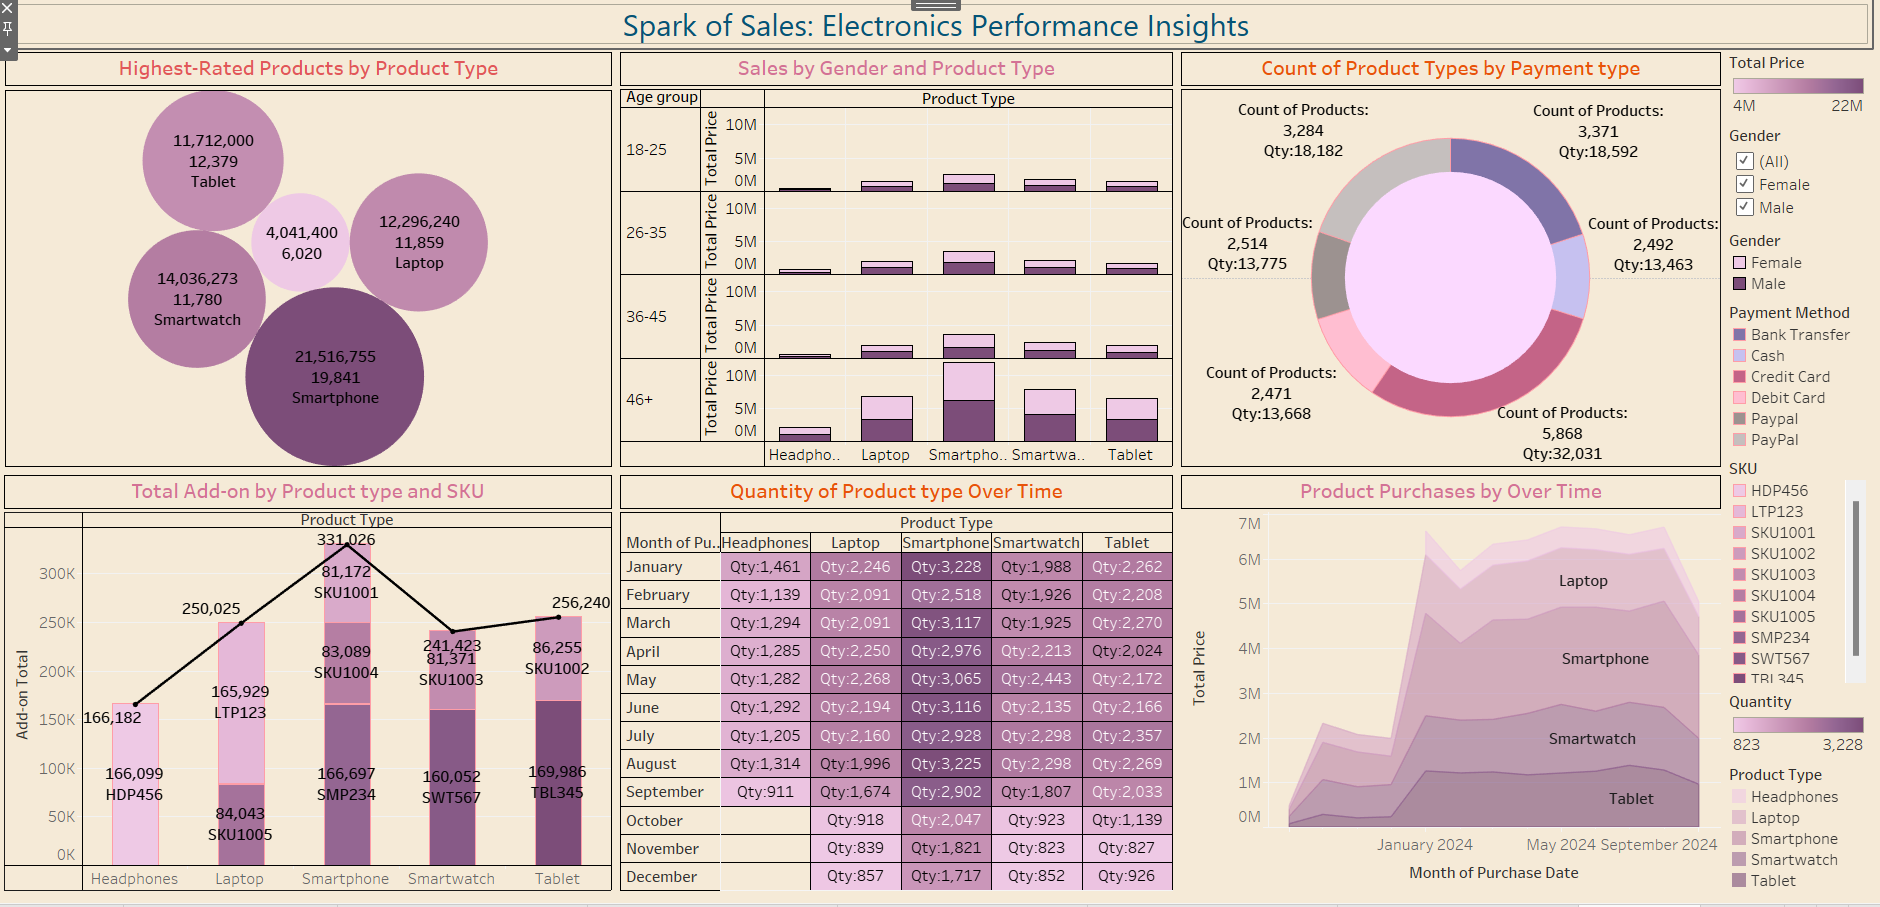

The page's visual inventory and layout, read from the dashboard file:
{"tool":"tableau","page":{"name":"Dashboard 1","canvas":[1000,1000],"units":"permille","ordinal":0},"visuals":[{"type":"title","box":[4.8,8.8,990.3,52.7]},{"type":"worksheet","title":"Highest-Rated Products by Product Type","mark":"Circle","box":[4.8,61.5,322.1,464.9]},{"type":"worksheet","title":"Sales by Gender and Product Type","mark":"Automatic","rows":["Calculation_878483417165475840","Total Price"],"cols":["Product Type"],"box":[326.9,61.5,293.3,464.9]},{"type":"worksheet","title":"Count of Product Types by Payment type","mark":"Pie","rows":["Calculation_142707828132474881","Calculation_142707828132474881"],"box":[620.2,61.5,286.3,464.9]},{"type":"legend","title":"Highest-Rated Products by Product Type","param":"[federated.0lhhu0g0bzh5n816ncl0w1g8hokx].[sum:Total Price:qk]","box":[906.5,61.5,88.7,80.1]},{"type":"filter","title":"Sales by Gender and Product Type","param":"[federated.0lhhu0g0bzh5n816ncl0w1g8hokx].[none:Gender:nk]","box":[906.5,141.6,88.7,115.3]},{"type":"legend","title":"Sales by Gender and Product Type","param":"[federated.0lhhu0g0bzh5n816ncl0w1g8hokx].[none:Gender:nk]","box":[906.5,256.9,88.7,79]},{"type":"legend","title":"Count of Product Types by Payment type","param":"[federated.0lhhu0g0bzh5n816ncl0w1g8hokx].[none:Payment Method:nk]","box":[906.5,335.9,88.7,171.2]},{"type":"legend","title":"Total Add-on by Product type and SKU","param":"[federated.0lhhu0g0bzh5n816ncl0w1g8hokx].[none:SKU:nk]","box":[906.5,507.1,88.7,255.8]},{"type":"worksheet","title":"Total Add-on by Product type and SKU","mark":"Line","rows":["Add-on Total","Add-on Total"],"cols":["Product Type"],"box":[4.8,526.3,322.1,464.9]},{"type":"worksheet","title":"Quantity of Product type Over Time","mark":"Square","rows":["Purchase Date"],"cols":["Product Type"],"box":[326.9,526.3,293.3,464.9]},{"type":"worksheet","title":"Product Purchases by Over Time","mark":"Area","rows":["Total Price"],"cols":["Purchase Date"],"box":[620.2,526.3,286.3,464.9]},{"type":"legend","title":"Quantity of Product type Over Time","param":"[federated.0lhhu0g0bzh5n816ncl0w1g8hokx].[sum:Quantity:qk]","box":[906.5,762.9,88.7,80.1]},{"type":"legend","title":"Product Purchases by Over Time","param":"[federated.0lhhu0g0bzh5n816ncl0w1g8hokx].[none:Product Type:nk]","box":[906.5,843,88.7,148.2]}]}

Visuals, with their boxes on the dashboard's canvas, which has no fixed pixel size, in thousandths of its width and height (x1, y1, x2, y2). These are canvas units, not pixel positions in the 1880x907 screenshot, which may show the page scaled, cropped or inside an application window:
title: 5, 9, 995, 62
"Highest-Rated Products by Product Type" worksheet (Circle marks): 5, 62, 327, 526
"Sales by Gender and Product Type" worksheet: 327, 62, 620, 526
"Count of Product Types by Payment type" worksheet (Pie marks): 620, 62, 906, 526
"Highest-Rated Products by Product Type" legend: 906, 62, 995, 142
"Sales by Gender and Product Type" filter: 906, 142, 995, 257
"Sales by Gender and Product Type" legend: 906, 257, 995, 336
"Count of Product Types by Payment type" legend: 906, 336, 995, 507
"Total Add-on by Product type and SKU" legend: 906, 507, 995, 763
"Total Add-on by Product type and SKU" worksheet (Line marks): 5, 526, 327, 991
"Quantity of Product type Over Time" worksheet (Square marks): 327, 526, 620, 991
"Product Purchases by Over Time" worksheet (Area marks): 620, 526, 906, 991
"Quantity of Product type Over Time" legend: 906, 763, 995, 843
"Product Purchases by Over Time" legend: 906, 843, 995, 991
